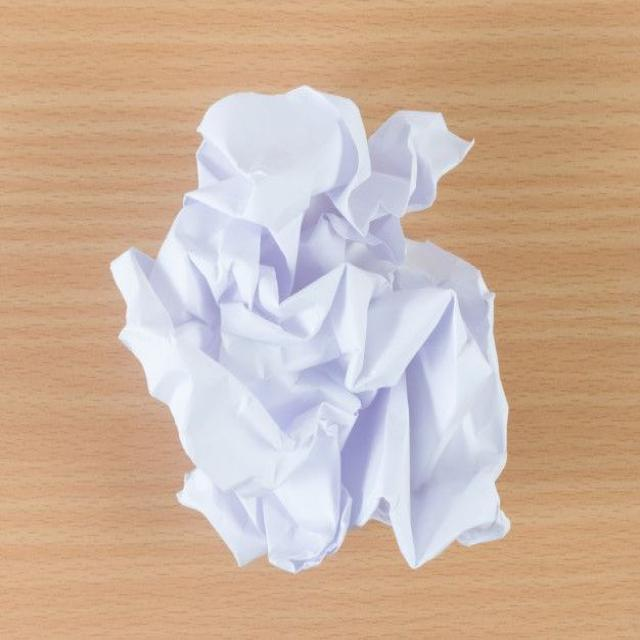Paper: (107, 85, 512, 577)
